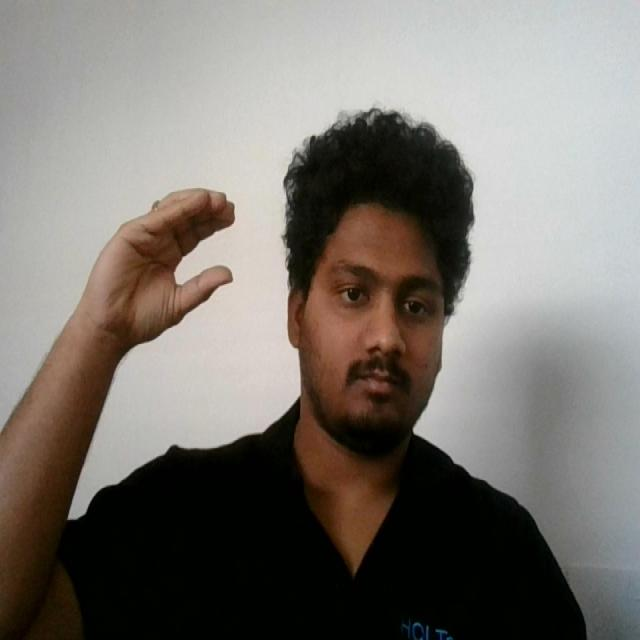No: (73, 180, 241, 351)
